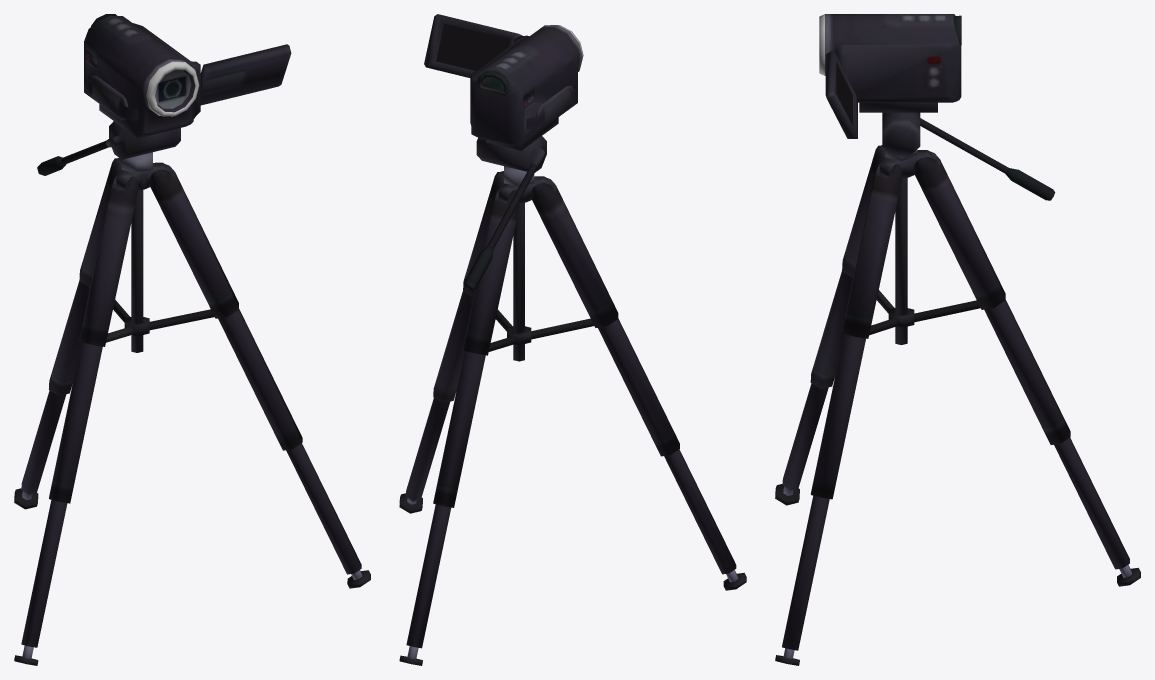
3 views of the same model, side by side, from view 1: azimuth 30°, elevation 25°; view 2: azimuth 150°, elevation 25°; view 3: azimuth 270°, elevation 25° (orthographic). The views are drawn at different scales.
Bounding box in the file's own units: 9.16 × 13.56 × 7.94.
Materials: 2 (2 with a texture image).
